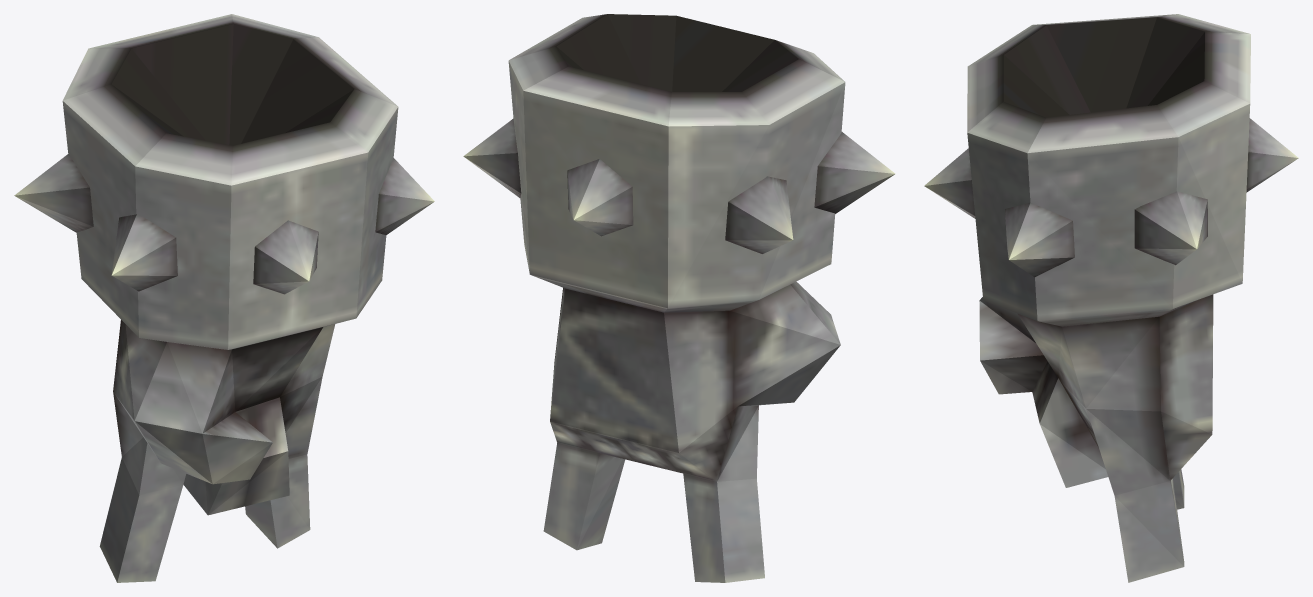
Rendered from Panda_superStarKnuckle_left.obj.
The picture shows the model from 3 angles, left to right: view 1: azimuth 30°, elevation 25°; view 2: azimuth 150°, elevation 25°; view 3: azimuth 270°, elevation 25°; orthographic projection. The views are drawn at different scales.
Parts seen in each view (by area): view 1: Panda_superStarKnuckle_tri [left]; view 2: Panda_superStarKnuckle_tri [left]; view 3: Panda_superStarKnuckle_tri [left].
Boxes of the visible parts, <box> form: Panda_superStarKnuckle_tri [left]: <box>14,14,434,582</box>; Panda_superStarKnuckle_tri [left]: <box>463,14,895,582</box>; Panda_superStarKnuckle_tri [left]: <box>924,14,1298,582</box>.
Size of the model in its own units: 0.1631 by 0.2372 by 0.1623.
1 material, 1 textured.
